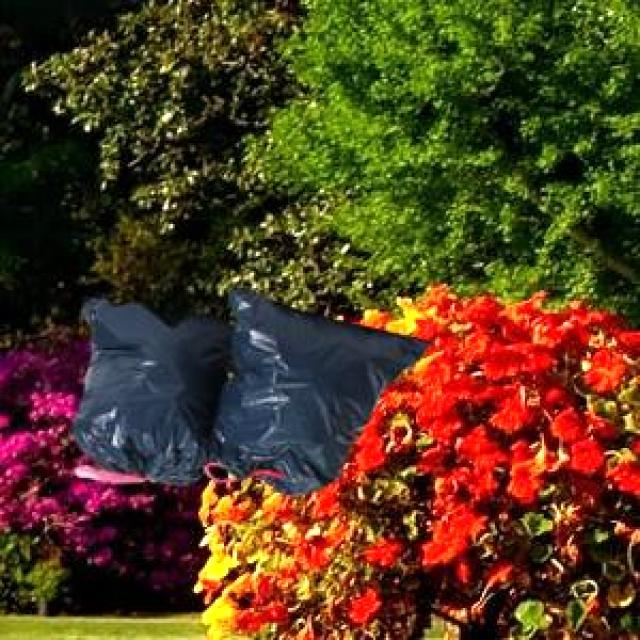Garbage_Bag: (70, 285, 430, 492)
